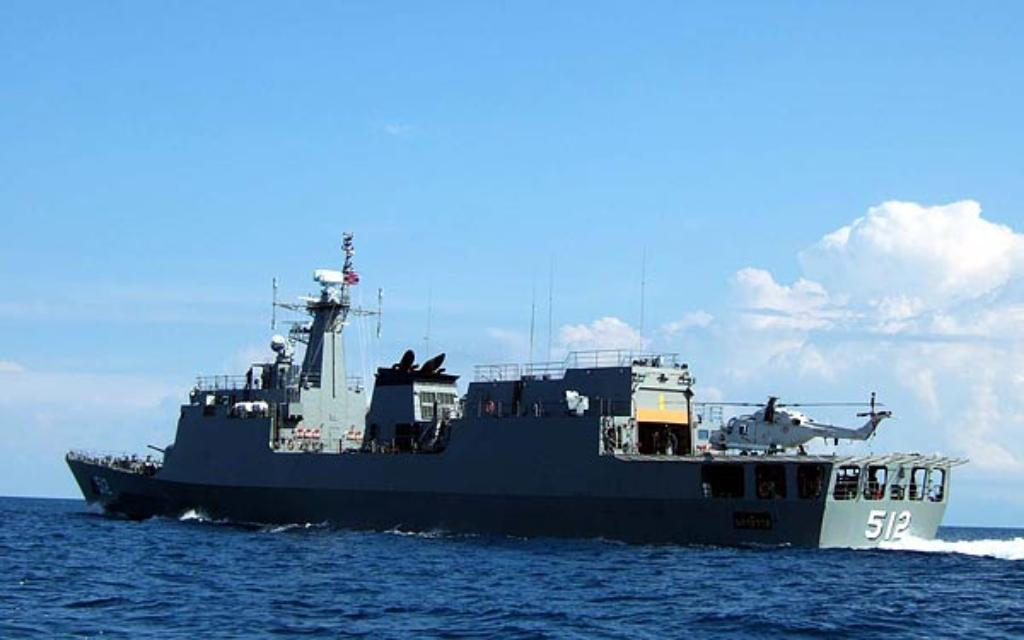Warship: (61, 252, 971, 548)
